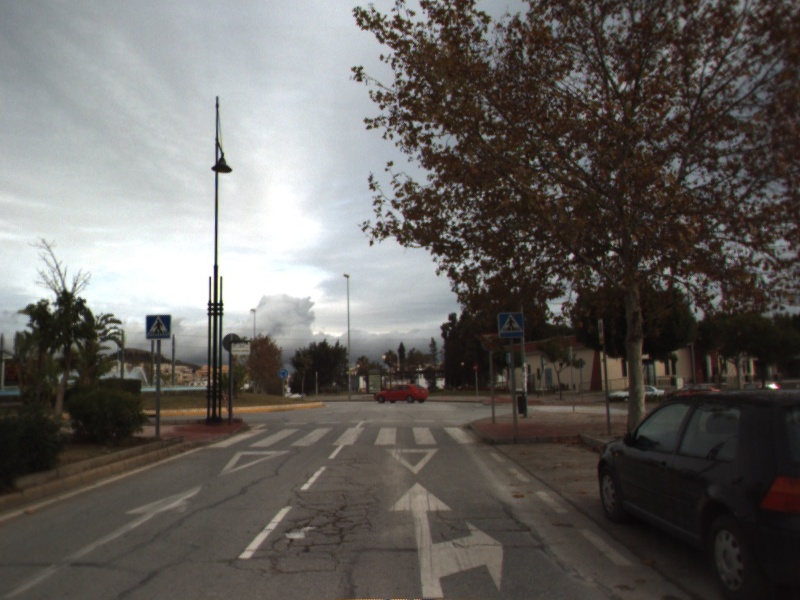STRAIGHT: (1, 482, 205, 600)
STRAIGHT_RIGHT: (385, 480, 506, 599)
